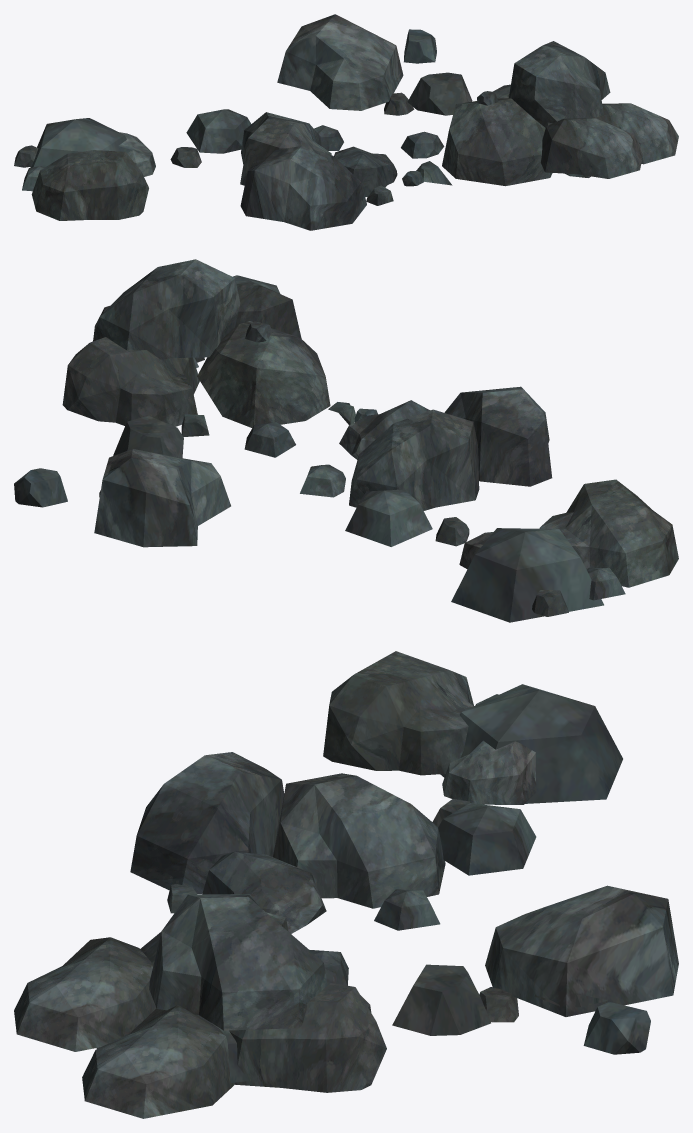
Rendered from object_rubble39.fbx.
3 renders of one model, top to bottom at view 1: azimuth 30°, elevation 25°; view 2: azimuth 150°, elevation 25°; view 3: azimuth 270°, elevation 25°, orthographic. The views are drawn at different scales.
Visible parts, largest first — view 1: obj0.110; view 2: obj0.110; view 3: obj0.110.
Part boxes in pixels (x1,y1,x2,y2): obj0.110: [14, 14, 678, 230]; obj0.110: [14, 259, 678, 622]; obj0.110: [14, 651, 678, 1118].
Size of the model in its own units: 7.16 by 1.32 by 4.74.
